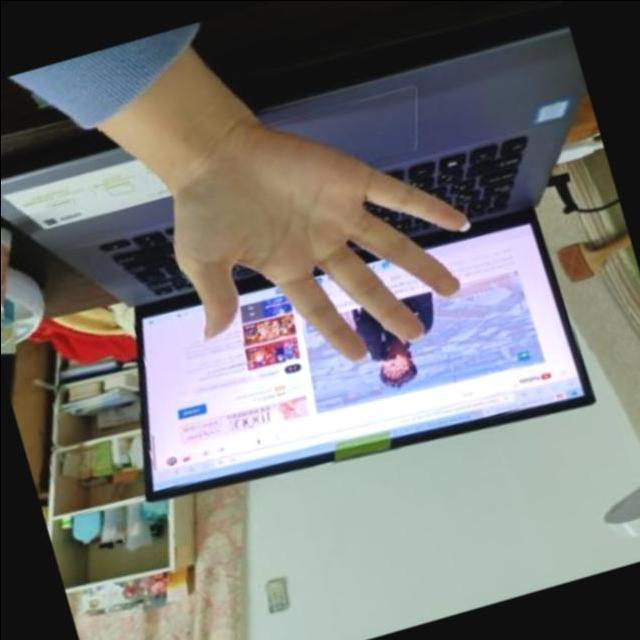hand: (123, 55, 519, 418)
